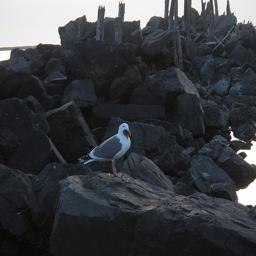bird: (150, 178, 256, 256)
